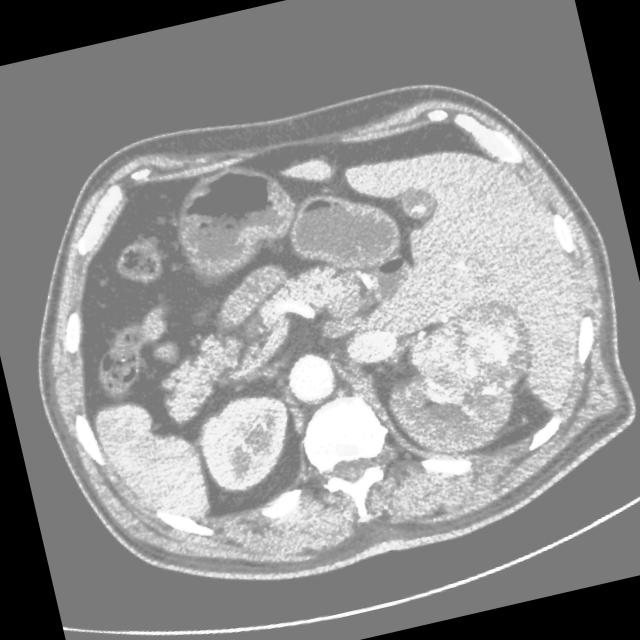TUMOR: (108, 166, 486, 513)
